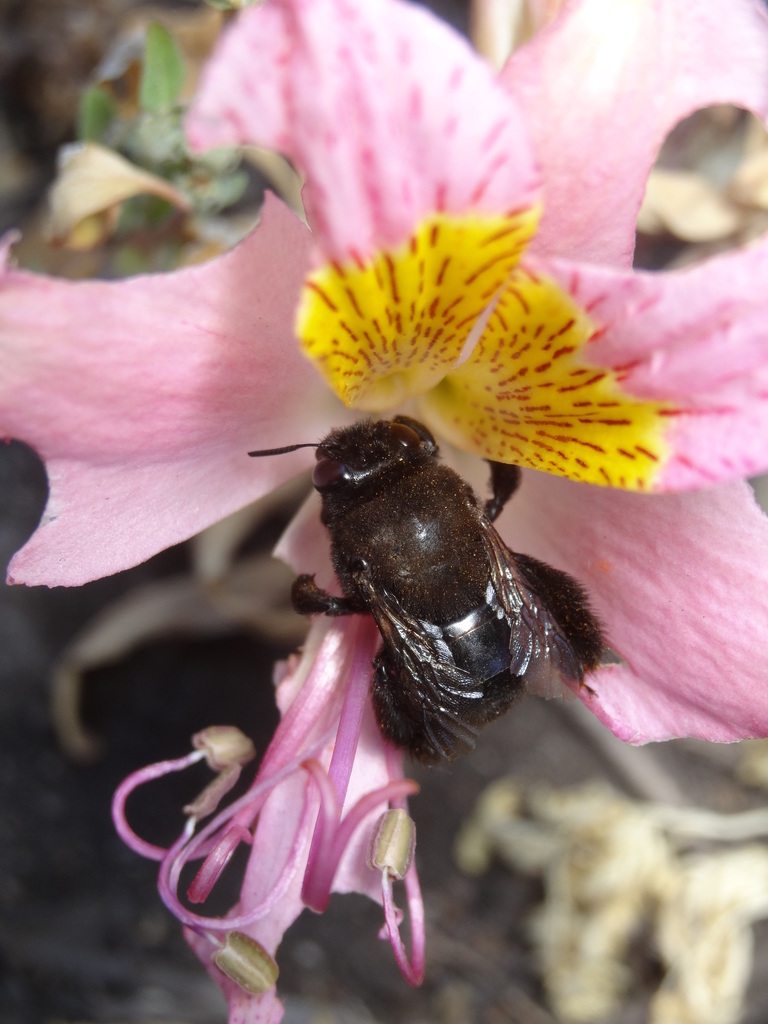not_bumblebee: (246, 412, 607, 769)
